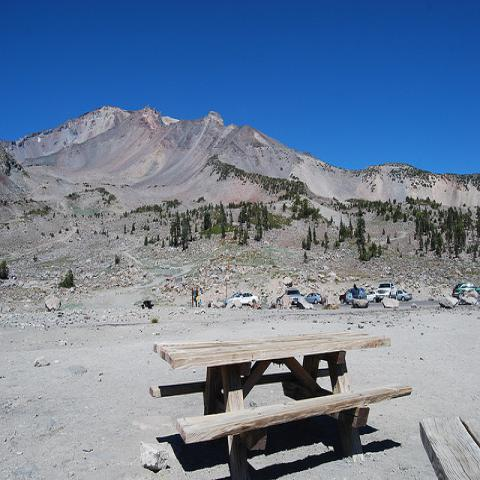car: (451, 280, 479, 300), (345, 288, 367, 304), (235, 291, 258, 305), (305, 292, 323, 304), (398, 289, 412, 301), (366, 290, 377, 302), (340, 292, 349, 303)
truck: (375, 282, 398, 302), (286, 288, 302, 306)
